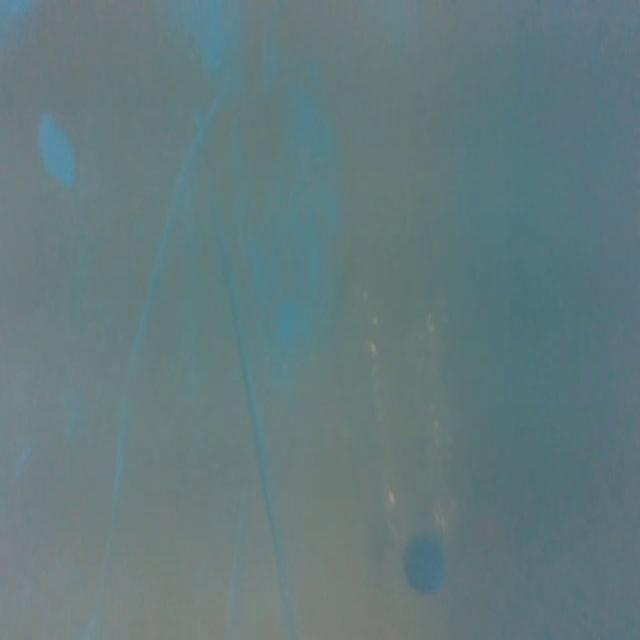plastic bottle: (342, 265, 473, 595)
